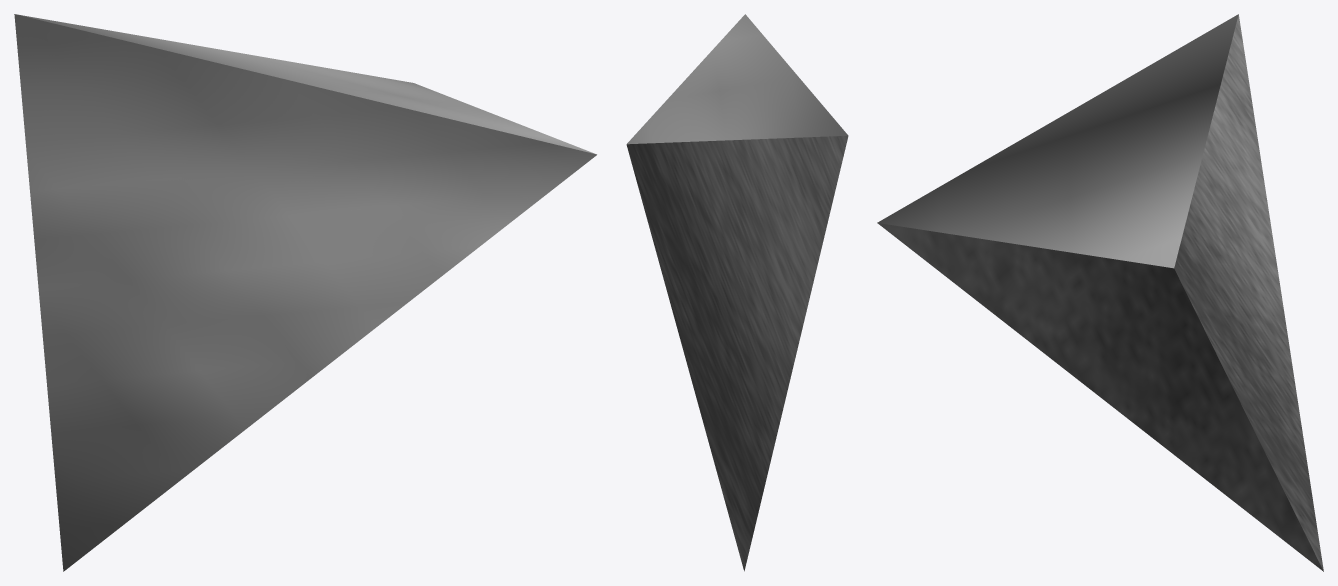
File: body_cell_004.fbx
The picture shows the model from 3 angles, left to right: view 1: azimuth 30°, elevation 25°; view 2: azimuth 150°, elevation 25°; view 3: azimuth 270°, elevation 25°; orthographic projection. The views are drawn at different scales.
Visible parts, largest first — view 1: body_cell.004; view 2: body_cell.004; view 3: body_cell.004.
Part boxes in pixels (<box>): body_cell.004: <box>14,14,596,571</box>; body_cell.004: <box>626,14,848,571</box>; body_cell.004: <box>877,14,1323,571</box>.
Bounding box in the file's own units: 3.64 × 5.89 × 4.61.
